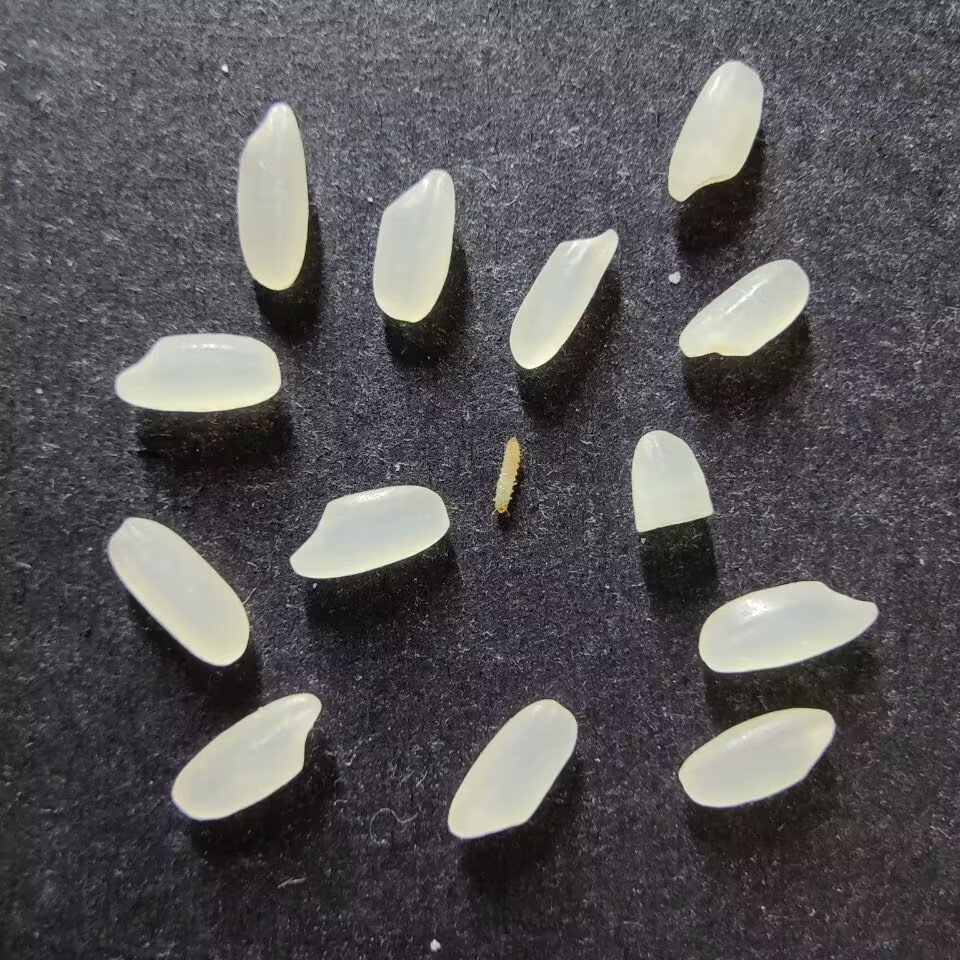broken: (630, 429, 714, 533)
others: (489, 436, 522, 519)
rice: (108, 517, 249, 666), (172, 693, 322, 820), (447, 698, 577, 838), (697, 580, 878, 673), (678, 707, 836, 808), (508, 228, 618, 369), (289, 484, 448, 578), (666, 61, 763, 202), (236, 104, 309, 290), (678, 258, 810, 358), (114, 332, 281, 411), (372, 168, 455, 322)
